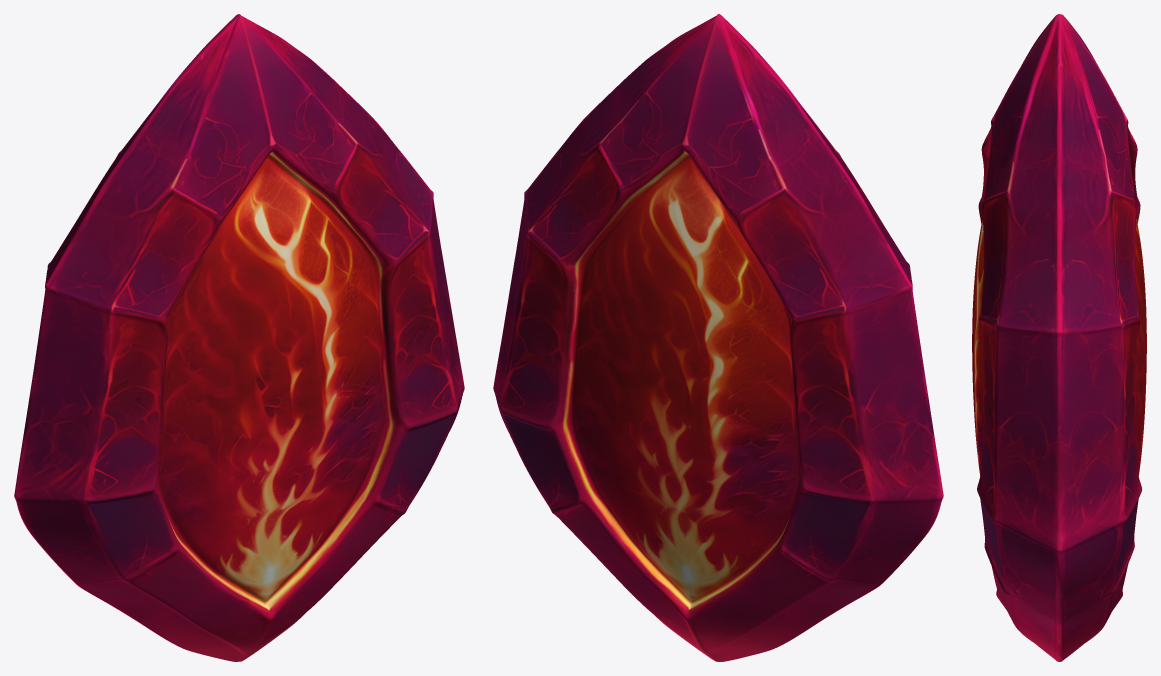
Rendered from fiery_magic_crystal_gem.glb.
3 views of the same model, side by side, from view 1: azimuth 30°, elevation 25°; view 2: azimuth 150°, elevation 25°; view 3: azimuth 270°, elevation 25° (orthographic).
Visible parts, largest first — view 1: Object_2; view 2: Object_2; view 3: Object_2.
Part boxes in pixels (x1,y1,x2,y2): Object_2: (14,14,464,661); Object_2: (493,14,943,661); Object_2: (972,14,1146,661).
Bounding box in the file's own units: 0.869 × 1.2 × 0.2935.
1 material, 1 textured.
